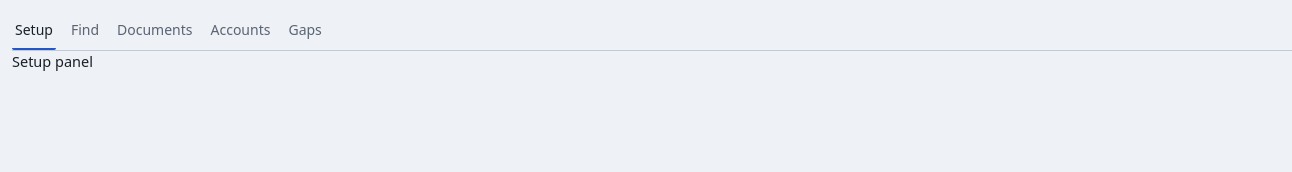
Test: Tabs: keys › moves with Left and Right (wrapping), Home and End, selecting and focusing the tab it reaches
This screenshot has width=1292, height=172.
Click the tab "Setup" at point(34, 31), box [12,12,56,50]
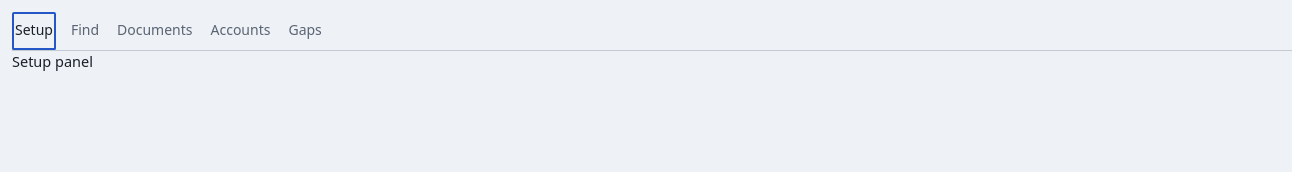
Press Arrowright
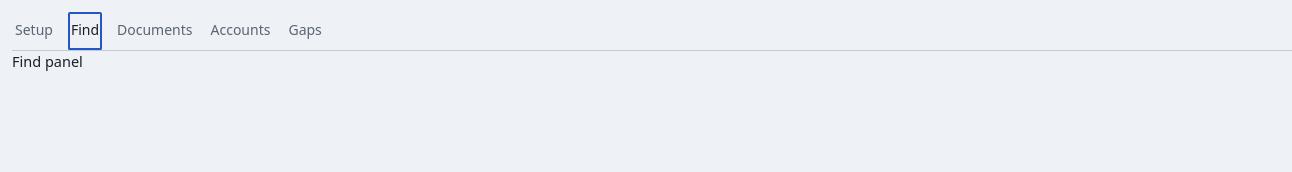
Now the panel reads "Find panel", box [12,51,83,71]
Press End
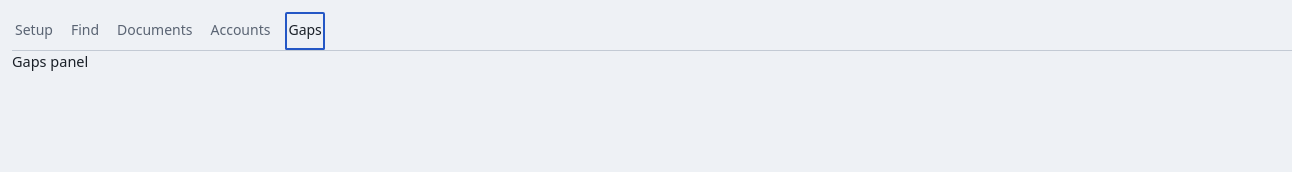
Press Arrowright
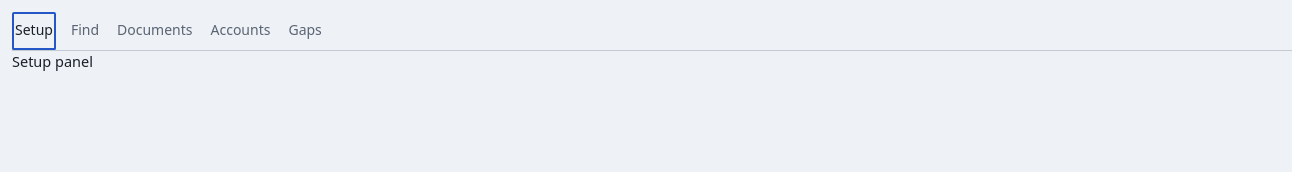
Now the tab "Setup" is selected, box [12,12,56,50]
Press Arrowleft
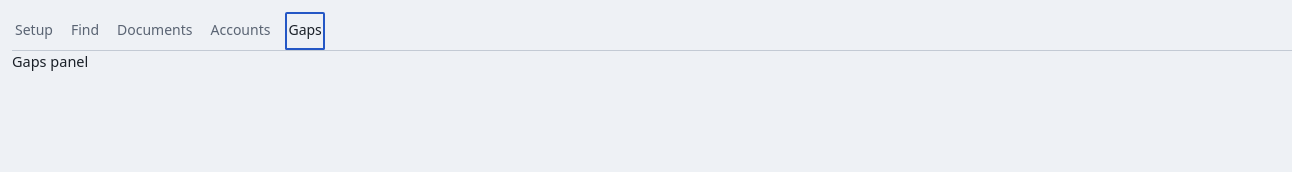
Press Home
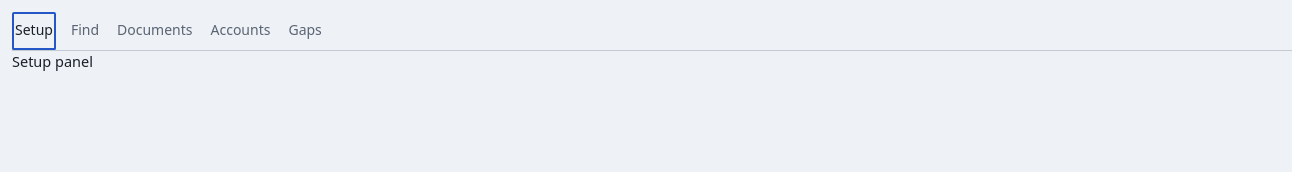
Now the panel reads "Setup panel", box [12,51,93,71]
